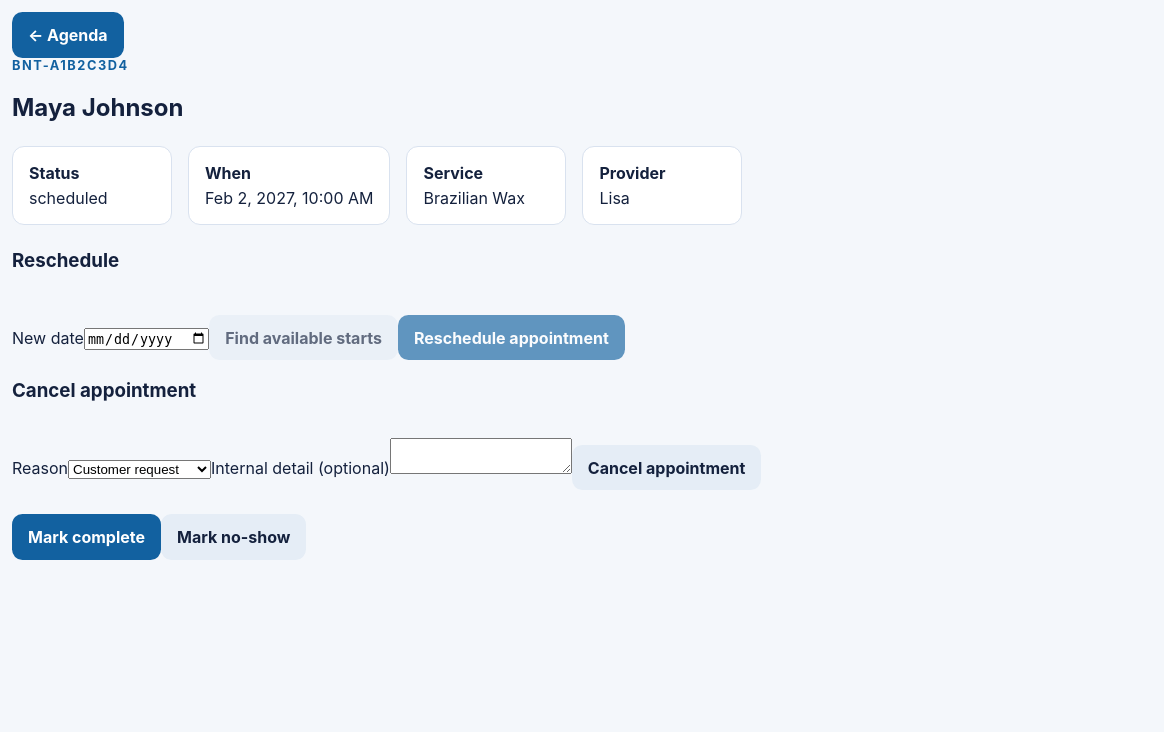
Test case: AppointmentsPage › shows progress and success feedback while rescheduling
Expected: the heading "Maya Johnson" is shown, [12,92,184,122]
Type "2027-02-03" into the date field labelled "New date".
click(147, 339); type("2027-02-03")  # box [84,328,209,350]
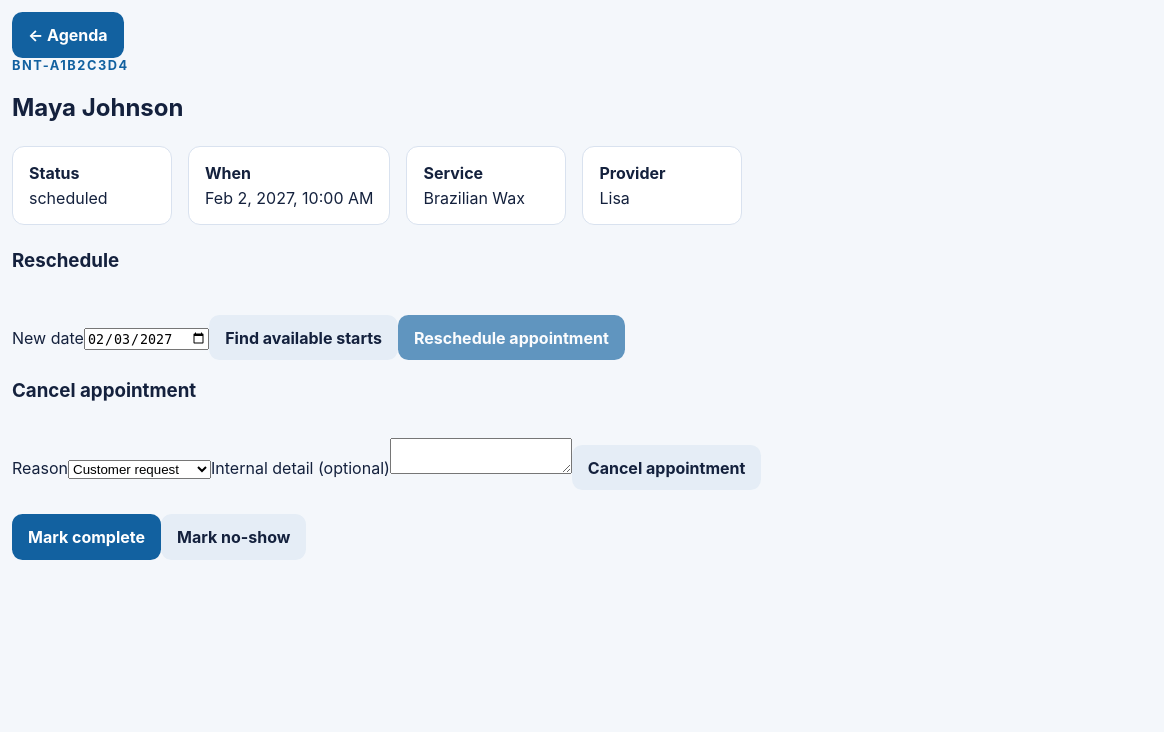
Click the button "Find available starts".
click(304, 338)  # box [209,315,398,360]
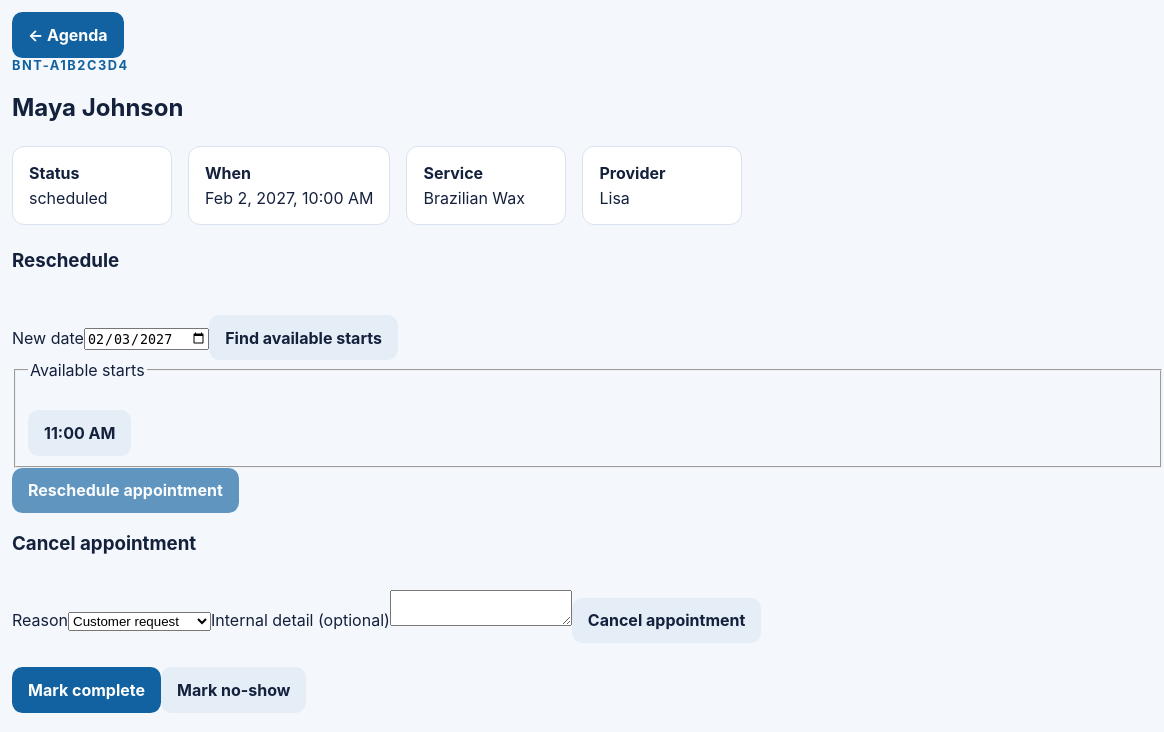
Click the button "11:00 AM".
click(80, 433)  # box [28,410,131,456]
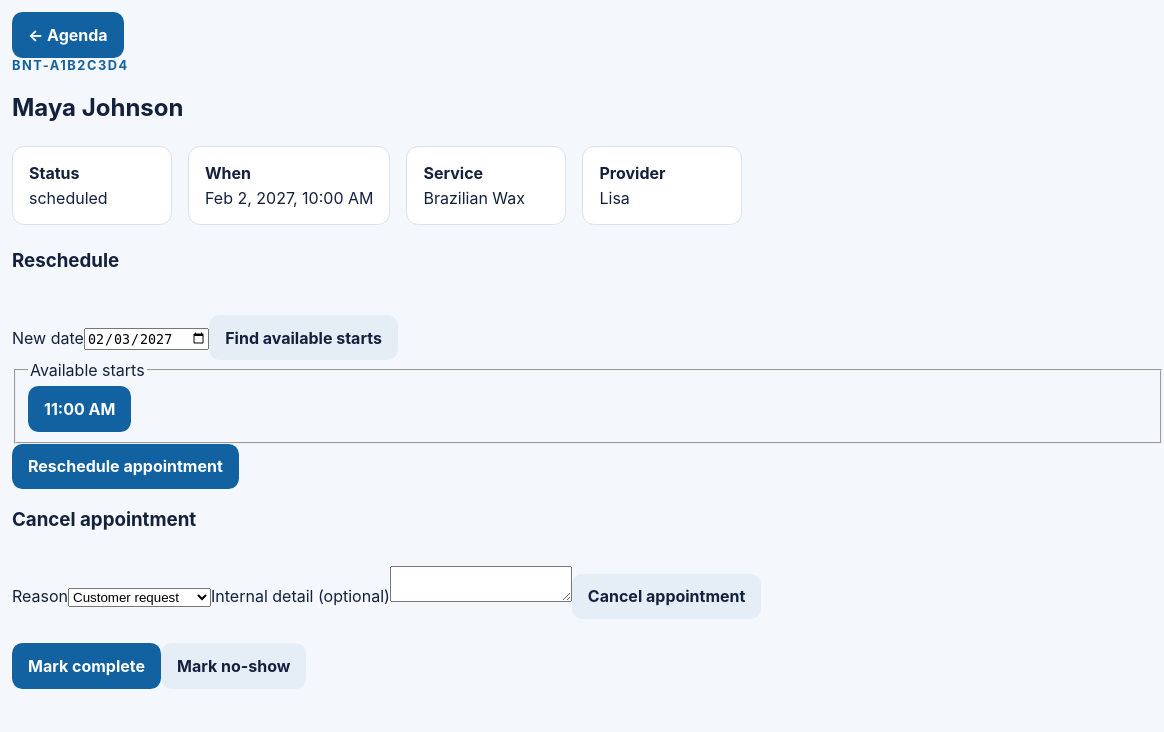
Click the button "Reschedule appointment".
click(125, 466)  # box [12,444,239,489]
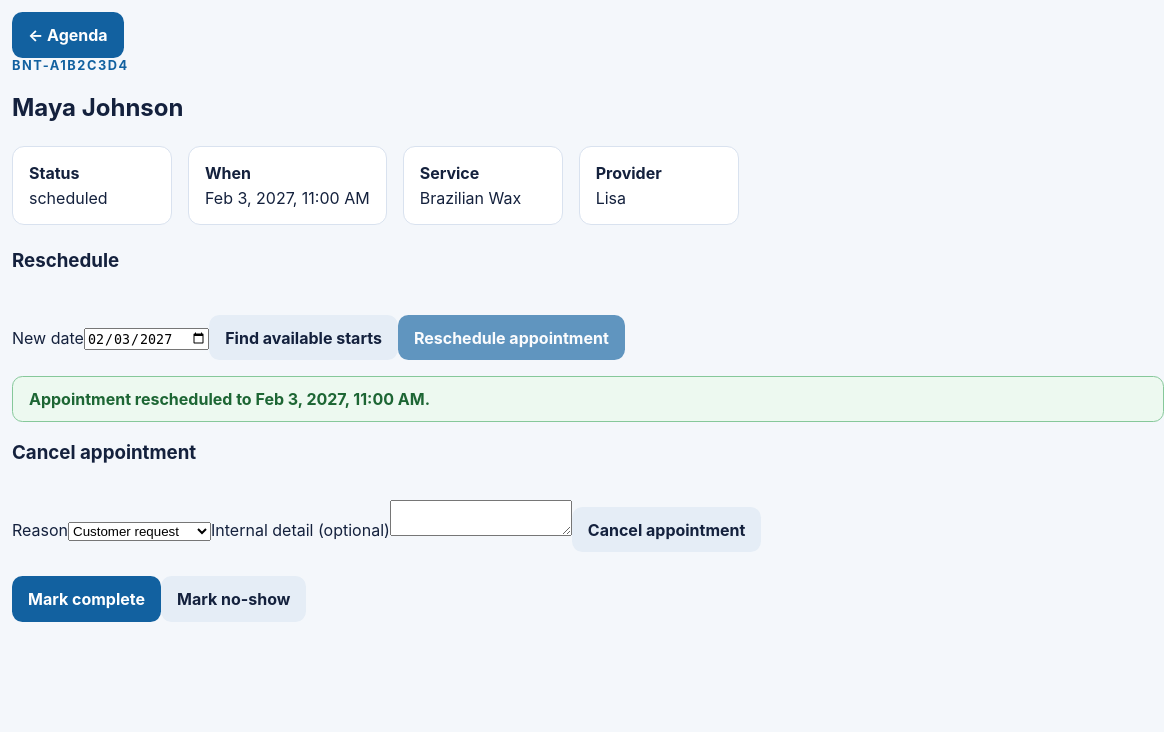
Expected: the button named "Rescheduling…" is disabled, [398,315,625,360]
Expected: the message shows "Appointment rescheduled to", [29,389,430,409]
